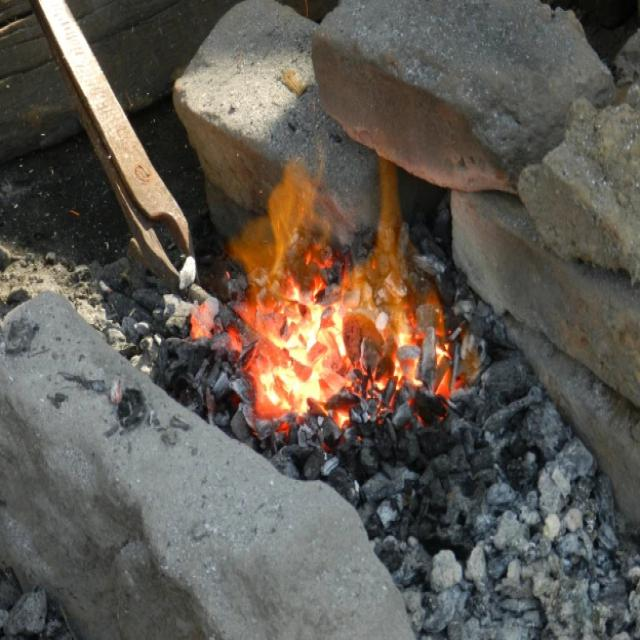fire: (230, 154, 452, 411)
